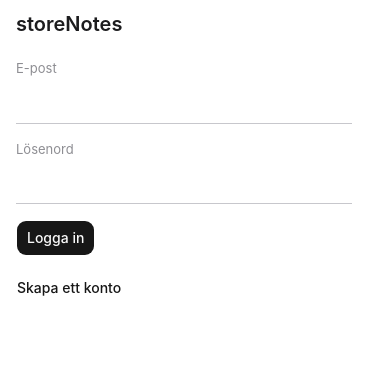
signing in › explains a failure to reach the server
The width and height of the screenshot is (369, 371).
Type "anna@example.com" into the field labelled "E-post" at (184, 103), box left=16, top=82, right=352, bottom=124
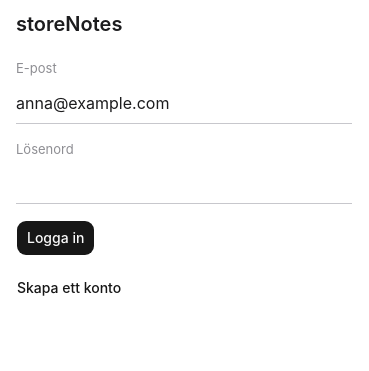
Type "correct horse" into the password field labelled "Lösenord" at (184, 184), box left=16, top=163, right=352, bottom=204
Then press Enter
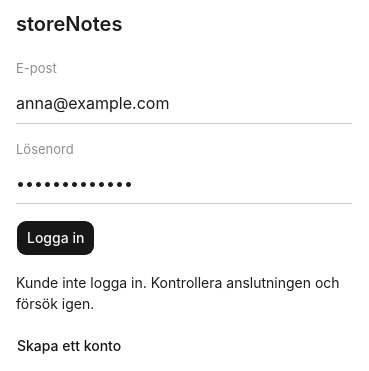
Expected: the message shows "Kunde inte logga in.", left=16, top=274, right=340, bottom=312
